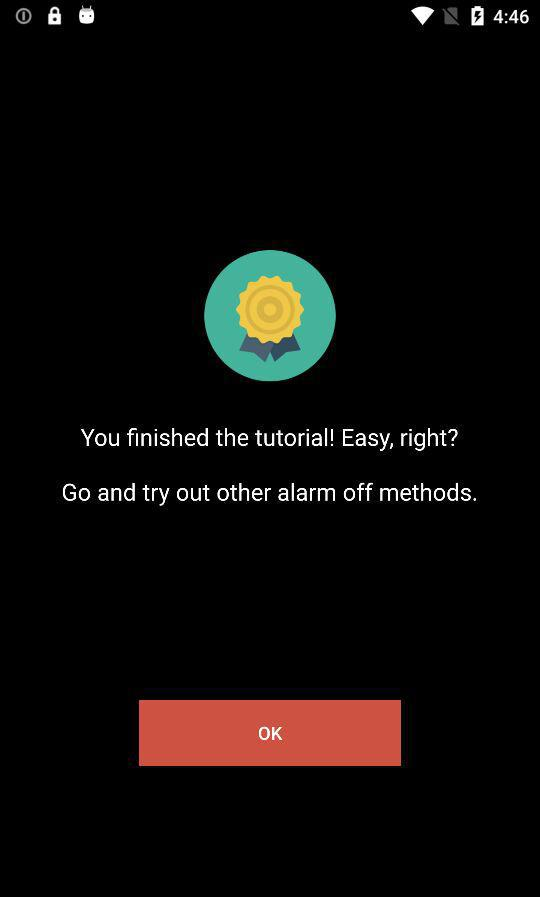Image: (204, 250, 337, 382)
Text: (63, 482, 477, 508), (81, 427, 459, 453)
TextButton: (139, 700, 402, 767)
UpperTaskBar: (1, 1, 540, 33)
